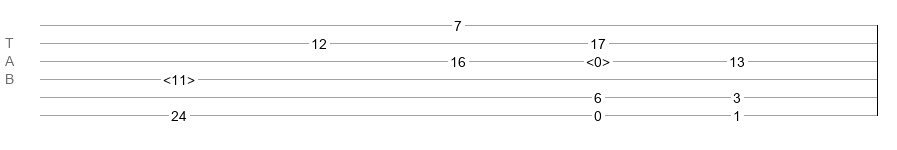0: (594, 108, 602, 118)
1: (733, 108, 741, 118)
12: (311, 36, 327, 46)
13: (729, 54, 745, 64)
16: (450, 54, 466, 64)
17: (590, 36, 606, 46)
24: (171, 108, 187, 118)
3: (733, 90, 741, 100)
6: (594, 90, 602, 100)
7: (454, 18, 462, 28)
harmonic: (163, 72, 195, 82), (586, 54, 610, 64)
